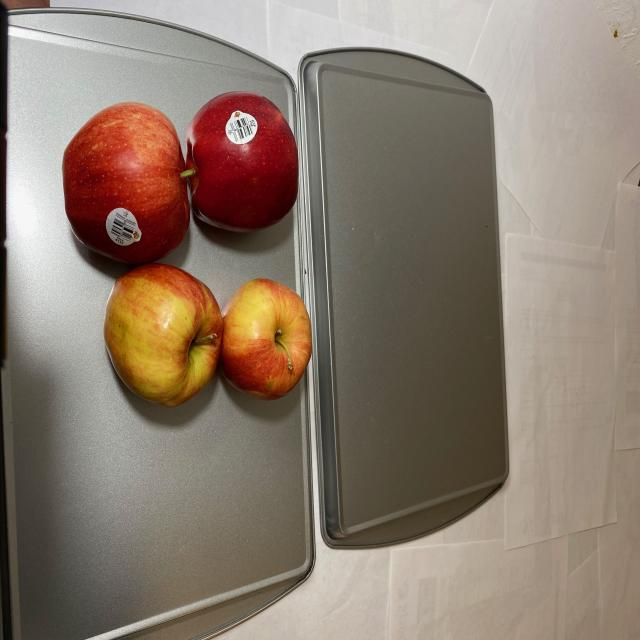apple: (62, 89, 312, 408)
